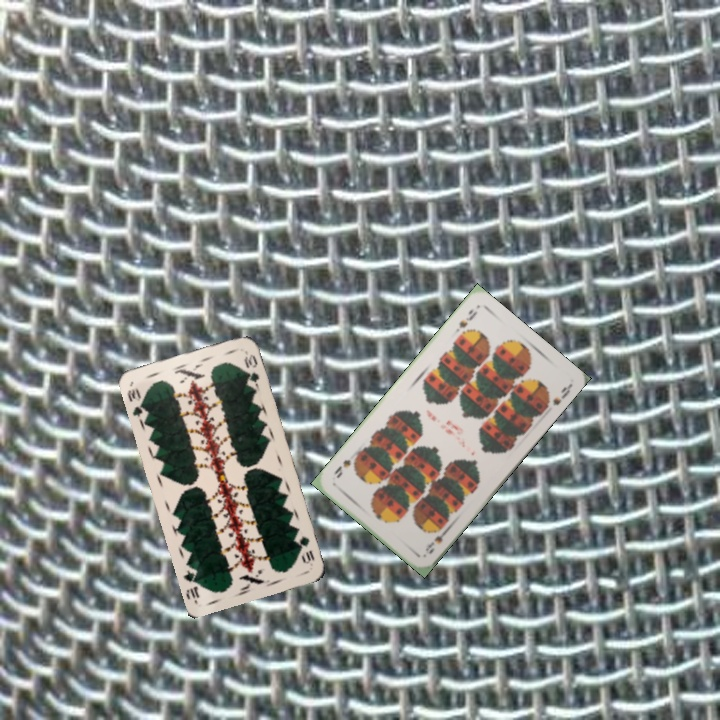G10: (123, 384, 149, 419), (294, 532, 317, 568)
S9: (421, 524, 451, 557), (455, 305, 480, 331)
